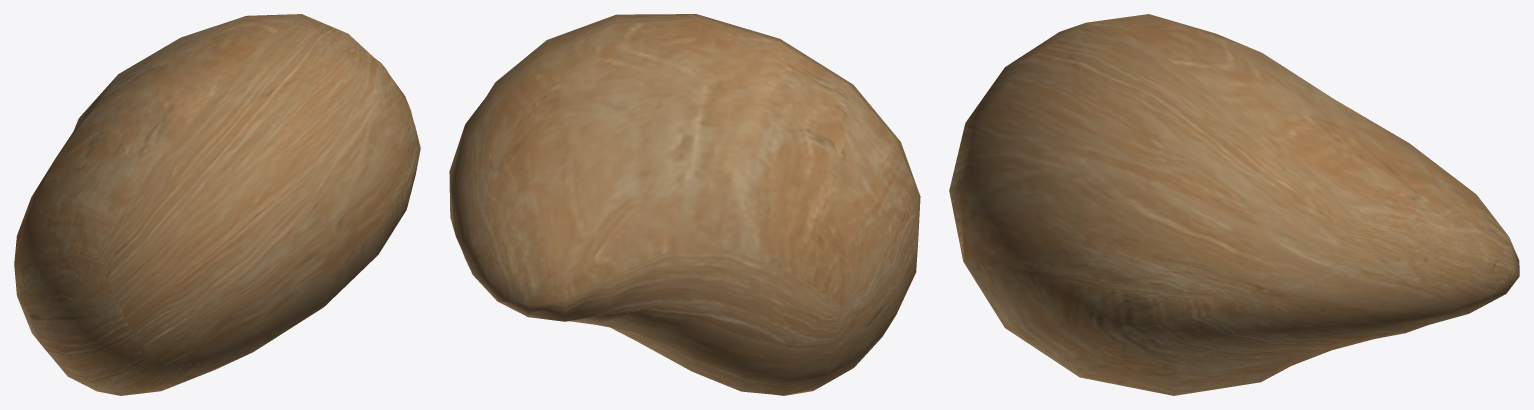
Rendered from rock6.obj.
The picture shows the model from 3 angles, left to right: view 1: azimuth 30°, elevation 25°; view 2: azimuth 150°, elevation 25°; view 3: azimuth 270°, elevation 25°; orthographic projection. The views are drawn at different scales.
Parts seen in each view (by area): view 1: rock6; view 2: rock6; view 3: rock6.
Part boxes in pixels (box(x1,y1,x2,y2)): rock6: box(14, 14, 420, 395); rock6: box(449, 14, 920, 395); rock6: box(949, 14, 1519, 395).
Bounding box in the file's own units: 14.1 × 11.18 × 14.56.
1 material, 1 textured.
